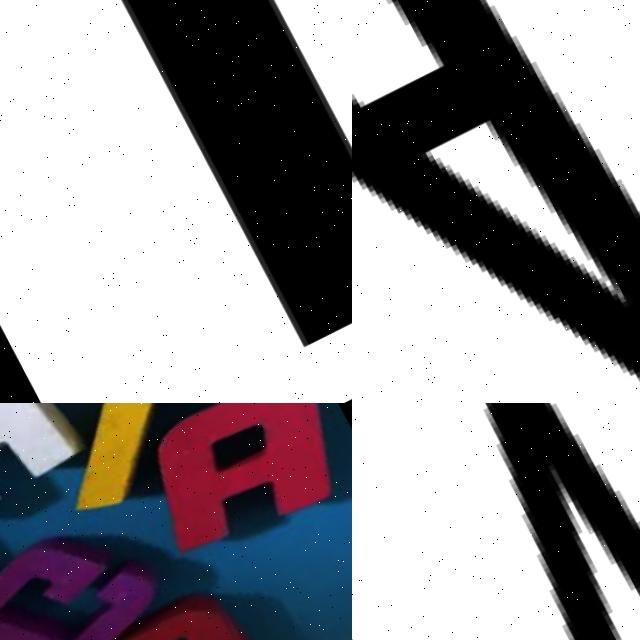A: (352, 0, 640, 403)
G: (0, 502, 167, 640)
H: (0, 403, 94, 557)
I: (45, 0, 352, 361)
L: (0, 403, 320, 532)
O: (55, 574, 288, 640)
W: (383, 403, 640, 640)
